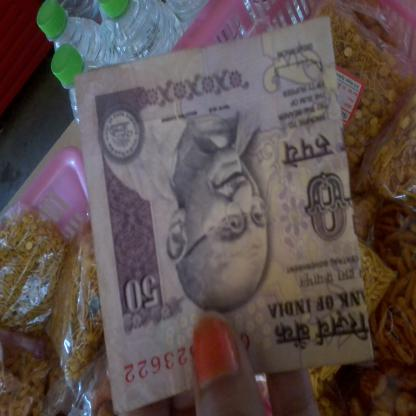Old50Front: (73, 15, 374, 416)
